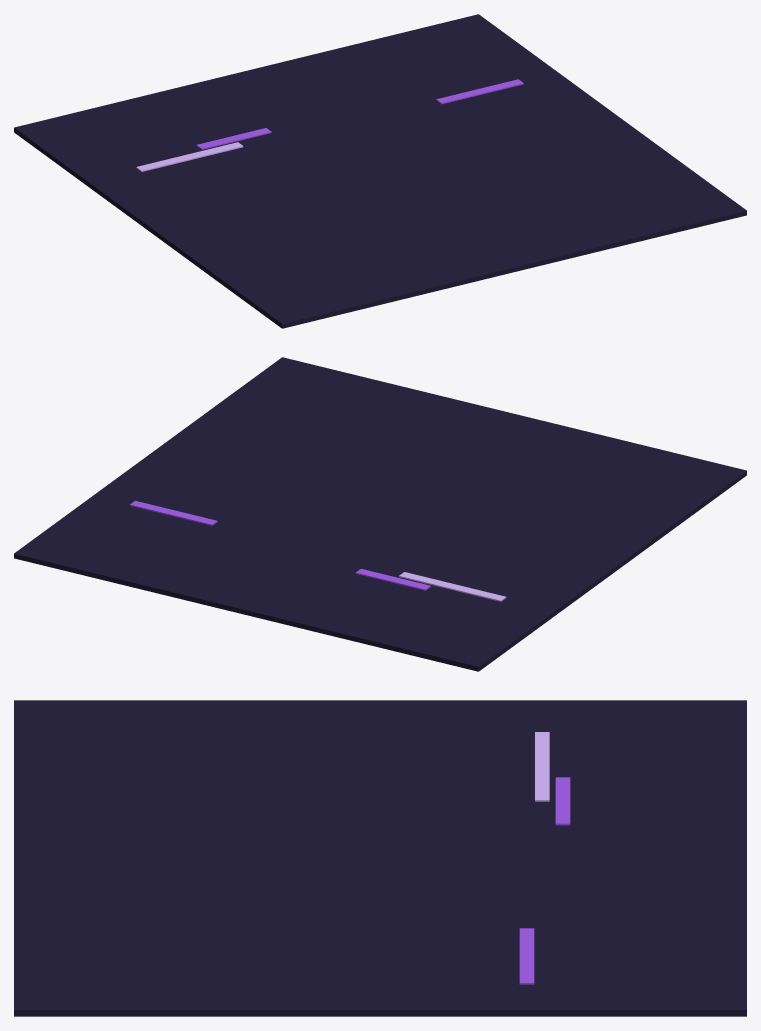
Rendered from black_lake.glb.
3 renders of one model, top to bottom at view 1: azimuth 30°, elevation 25°; view 2: azimuth 150°, elevation 25°; view 3: azimuth 270°, elevation 25°, orthographic. The views are drawn at different scales.
Parts seen in each view (by area): view 1: black_lake; view 2: black_lake; view 3: black_lake.
Part boxes in pixels (<box>): black_lake: <box>14,14,746,328</box>; black_lake: <box>14,357,746,671</box>; black_lake: <box>14,700,746,1016</box>.
Bounding box in the file's own units: 2 × 0.025 × 2.
